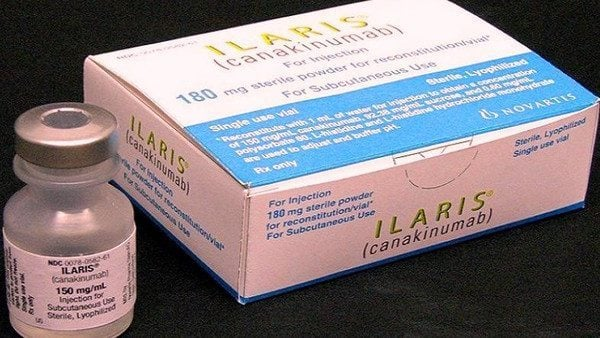Medicine: (83, 1, 597, 302), (4, 94, 143, 336)
